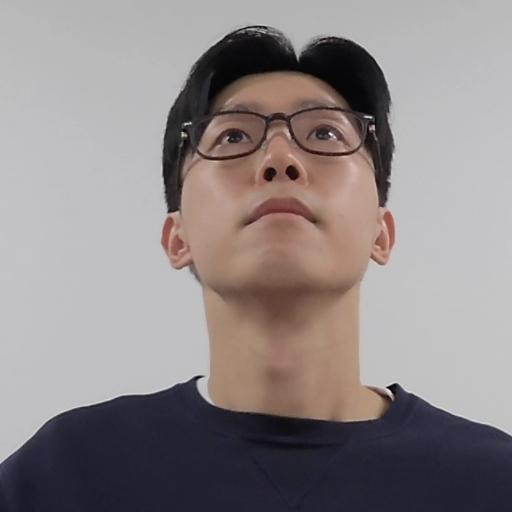no_glasses: (151, 27, 409, 313)
